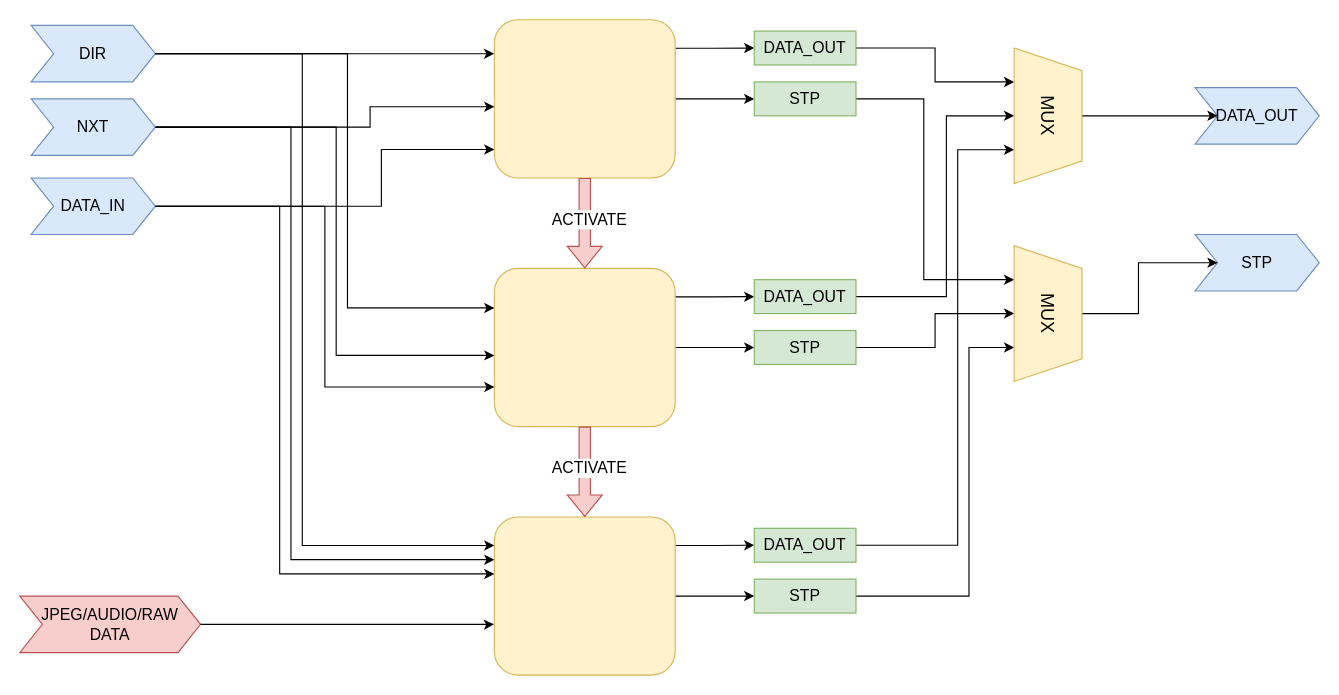
This 1339x695 diagram has some shape labels left out. The shapes that lost their labels are listed below. From the top down, each one's box as (x1, y1, x2, y2) in pixels, then its label:
(493, 19, 675, 178): FSM SETUP HIGHSPEED
(493, 267, 675, 427): FSM READ PACKETS
(493, 516, 675, 675): FSM TRANSFER DATA
